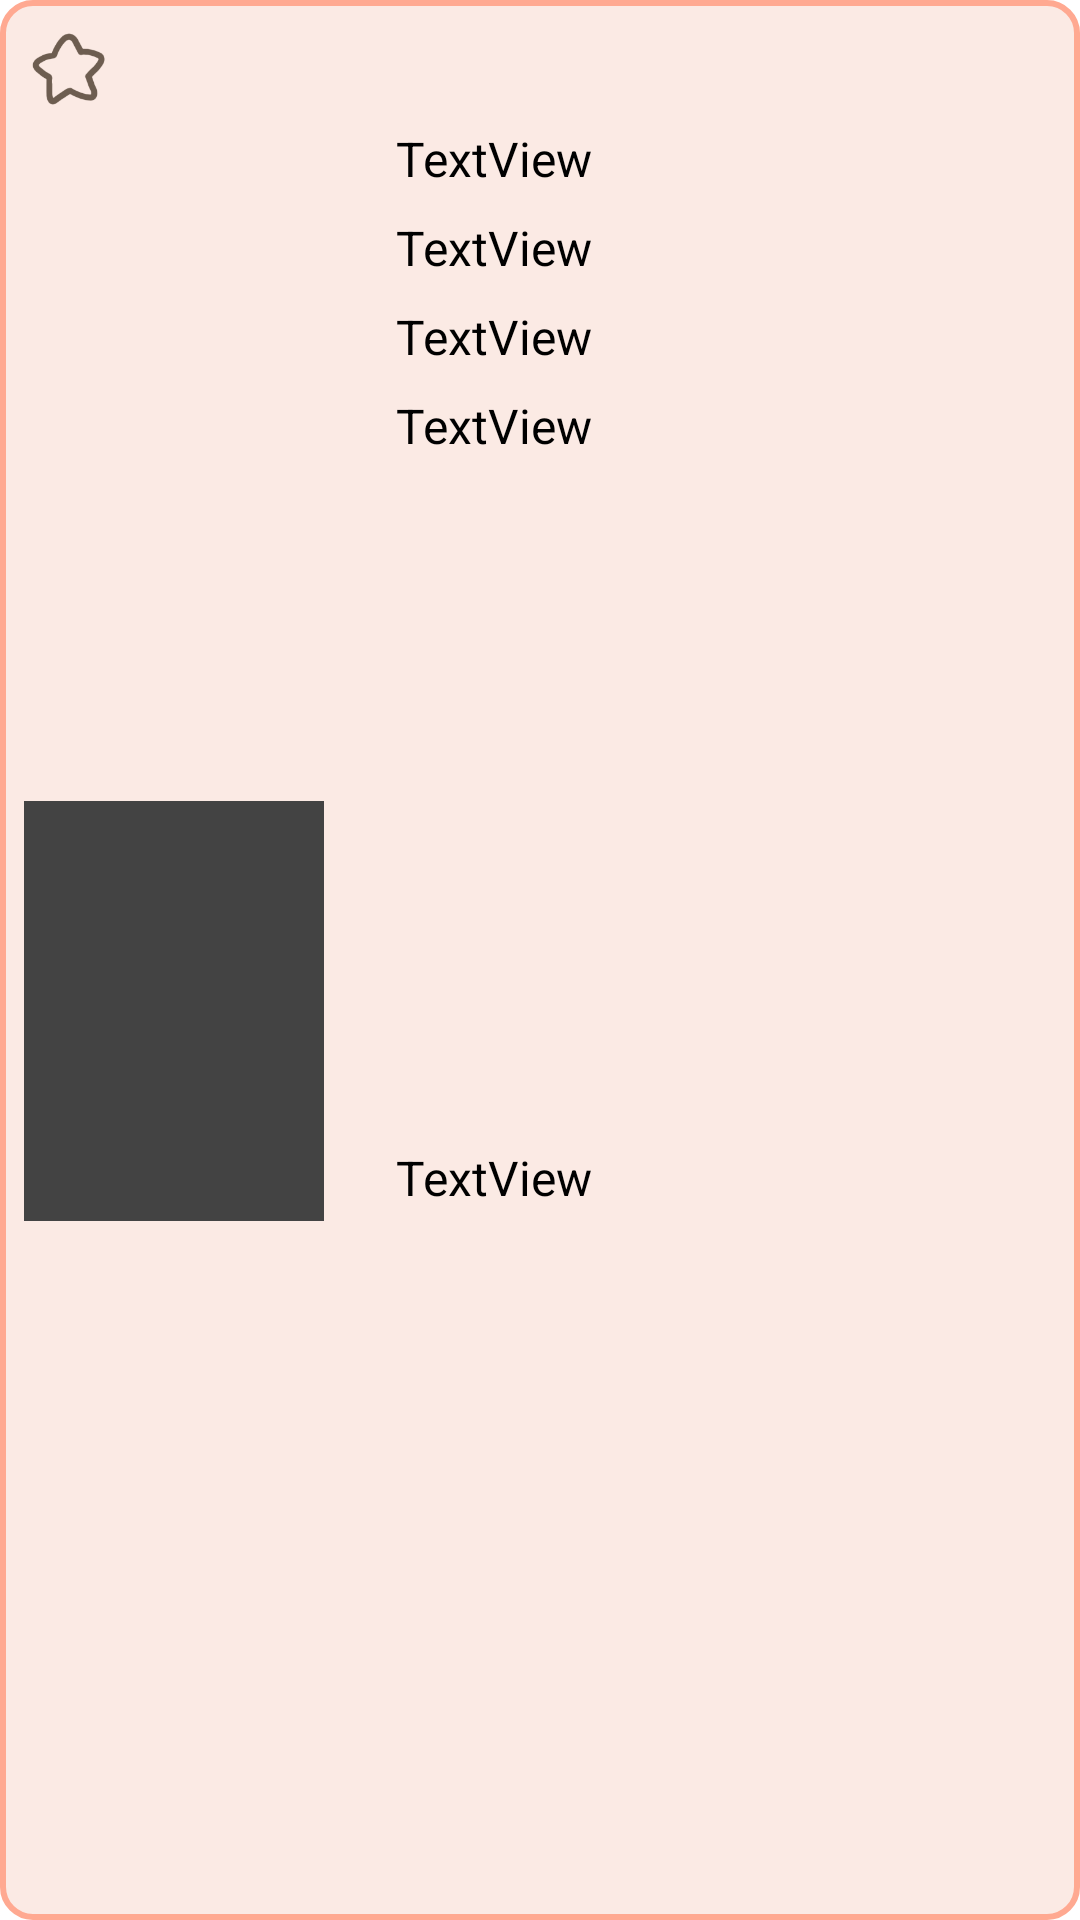

Where icons sit on this 1080 × 1920 app screen, as (x1, y1, x2, y2):
unlike star: (32, 33, 105, 105)
